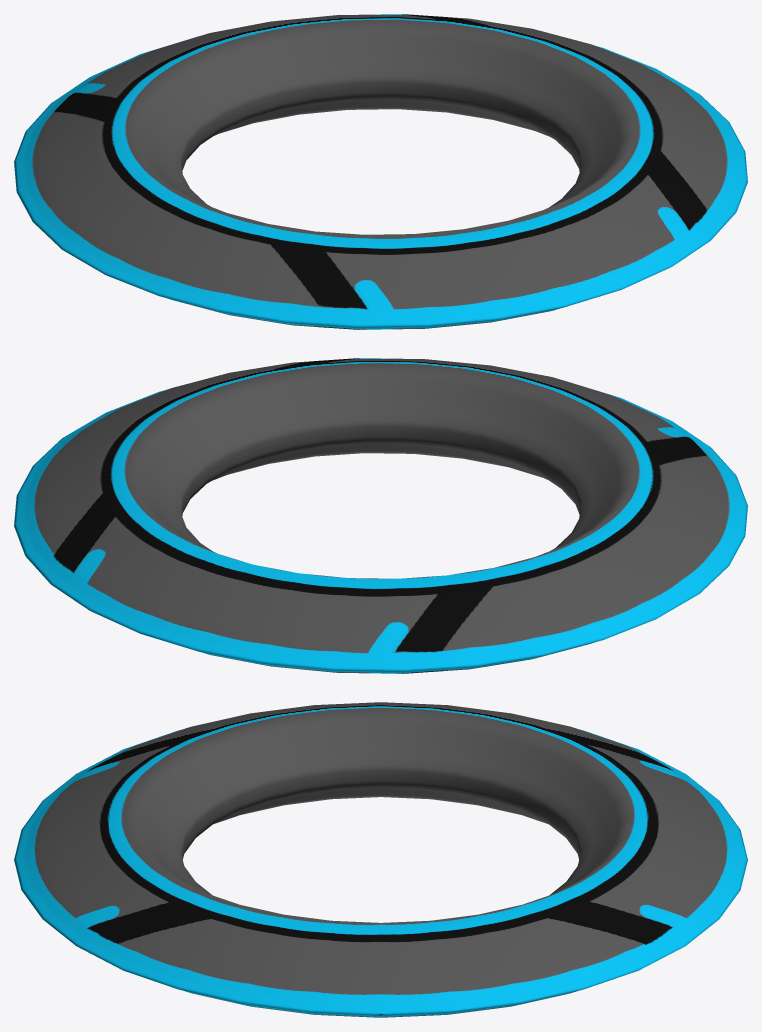
The model's file is disc_final.fbx.
3 views of the same model, one above another, from view 1: azimuth 30°, elevation 25°; view 2: azimuth 150°, elevation 25°; view 3: azimuth 270°, elevation 25° (orthographic).
Visible parts, largest first — view 1: pCylinder1; view 2: pCylinder1; view 3: pCylinder1.
Part boxes in pixels (x1,y1,x2,y2): pCylinder1: [14, 14, 747, 329]; pCylinder1: [14, 358, 747, 673]; pCylinder1: [14, 702, 747, 1017].
Size of the model in its own units: 113 by 15.13 by 113.
